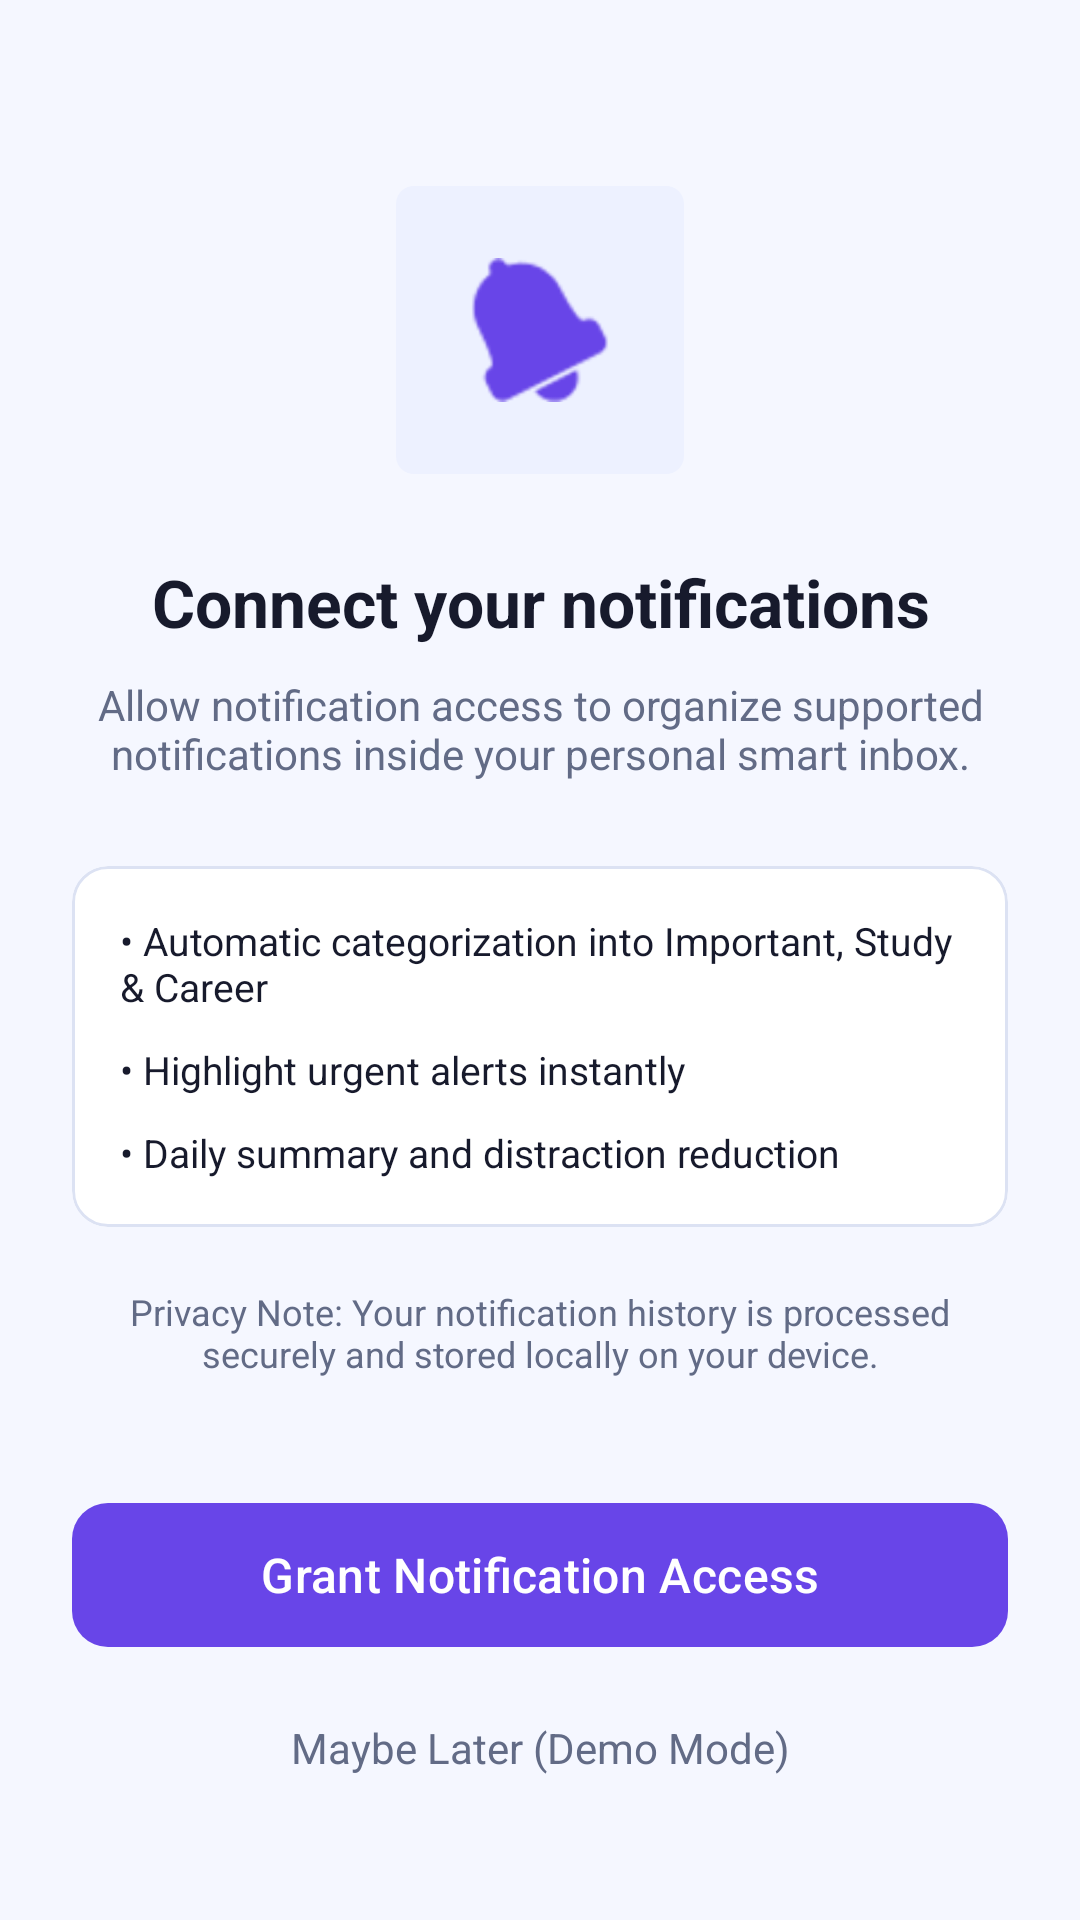

Icon bounding boxes for this 1080px x 1920px phone screenshot, format (x1, y1, x2, y2):
popup reminder: (472, 258, 608, 402)
